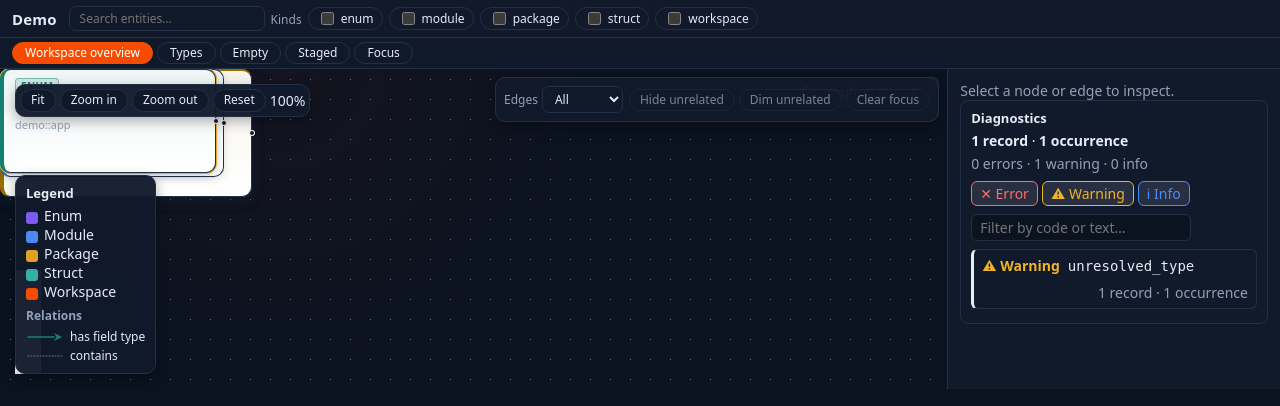
Test case: StageBar structural closure (four regions, no fifth) › nests StageBar inside the workspace (not a top-level row) when the view has stages
The width and height of the screenshot is (1280, 406).
Click the tab "Staged".
click(318, 53)  # box [285,42,350,64]
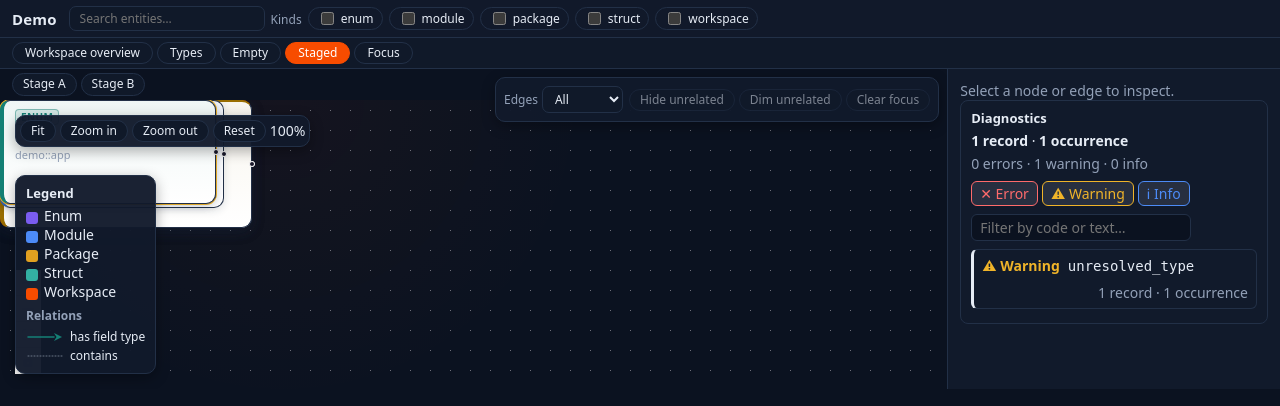
Result: the element with class "cv-workspace-stage-slot" is shown at [12,73,145,96]
